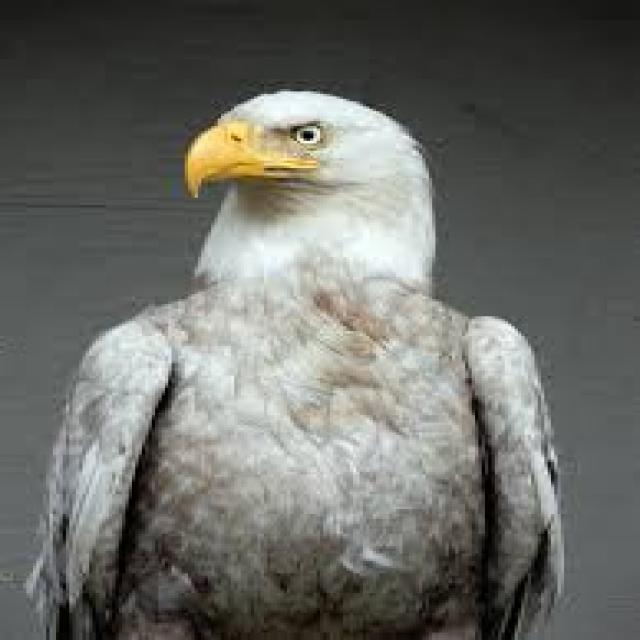Eagle: (23, 78, 559, 640)
